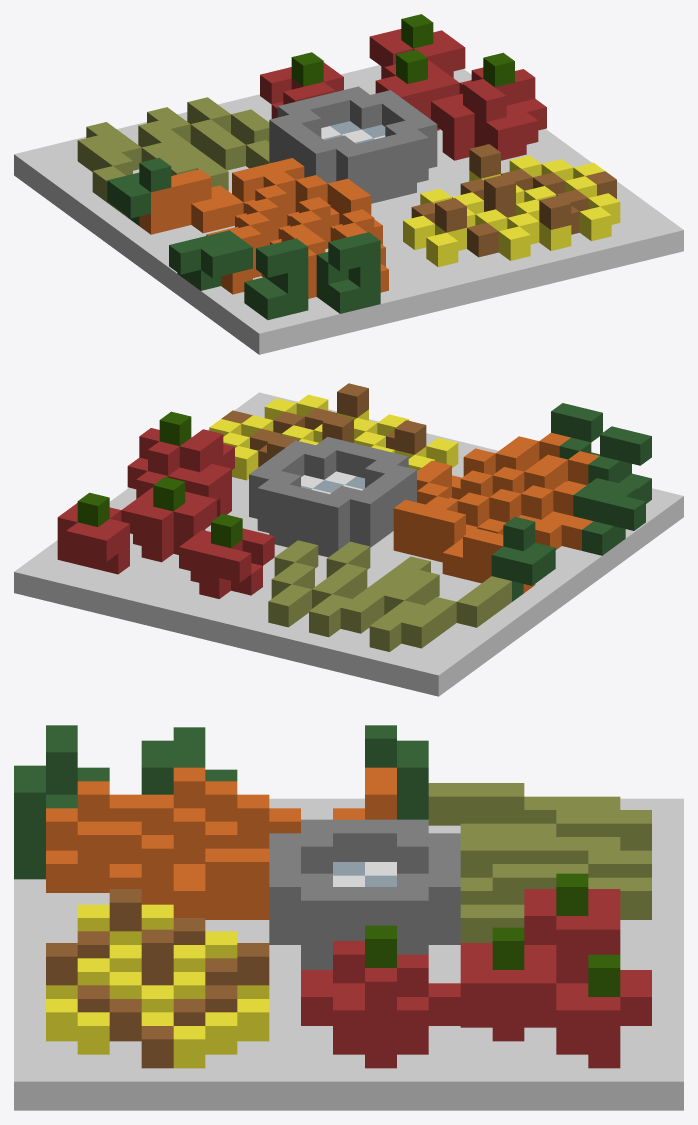
Rendered from VeggiePlate.dae.
The picture shows the model from 3 angles, top to bottom: view 1: azimuth 30°, elevation 25°; view 2: azimuth 150°, elevation 25°; view 3: azimuth 270°, elevation 25°; orthographic projection. The views are drawn at different scales.
Visible parts, largest first — view 1: VeggiePlate; view 2: VeggiePlate; view 3: VeggiePlate.
Boxes of the visible parts, left/top/right/bottom form: VeggiePlate: left=14, top=14, right=683, bottom=354; VeggiePlate: left=14, top=383, right=683, bottom=696; VeggiePlate: left=14, top=725, right=683, bottom=1110.
Bounding box in the file's own units: 22 × 21 × 5.
1 material, 1 textured.
